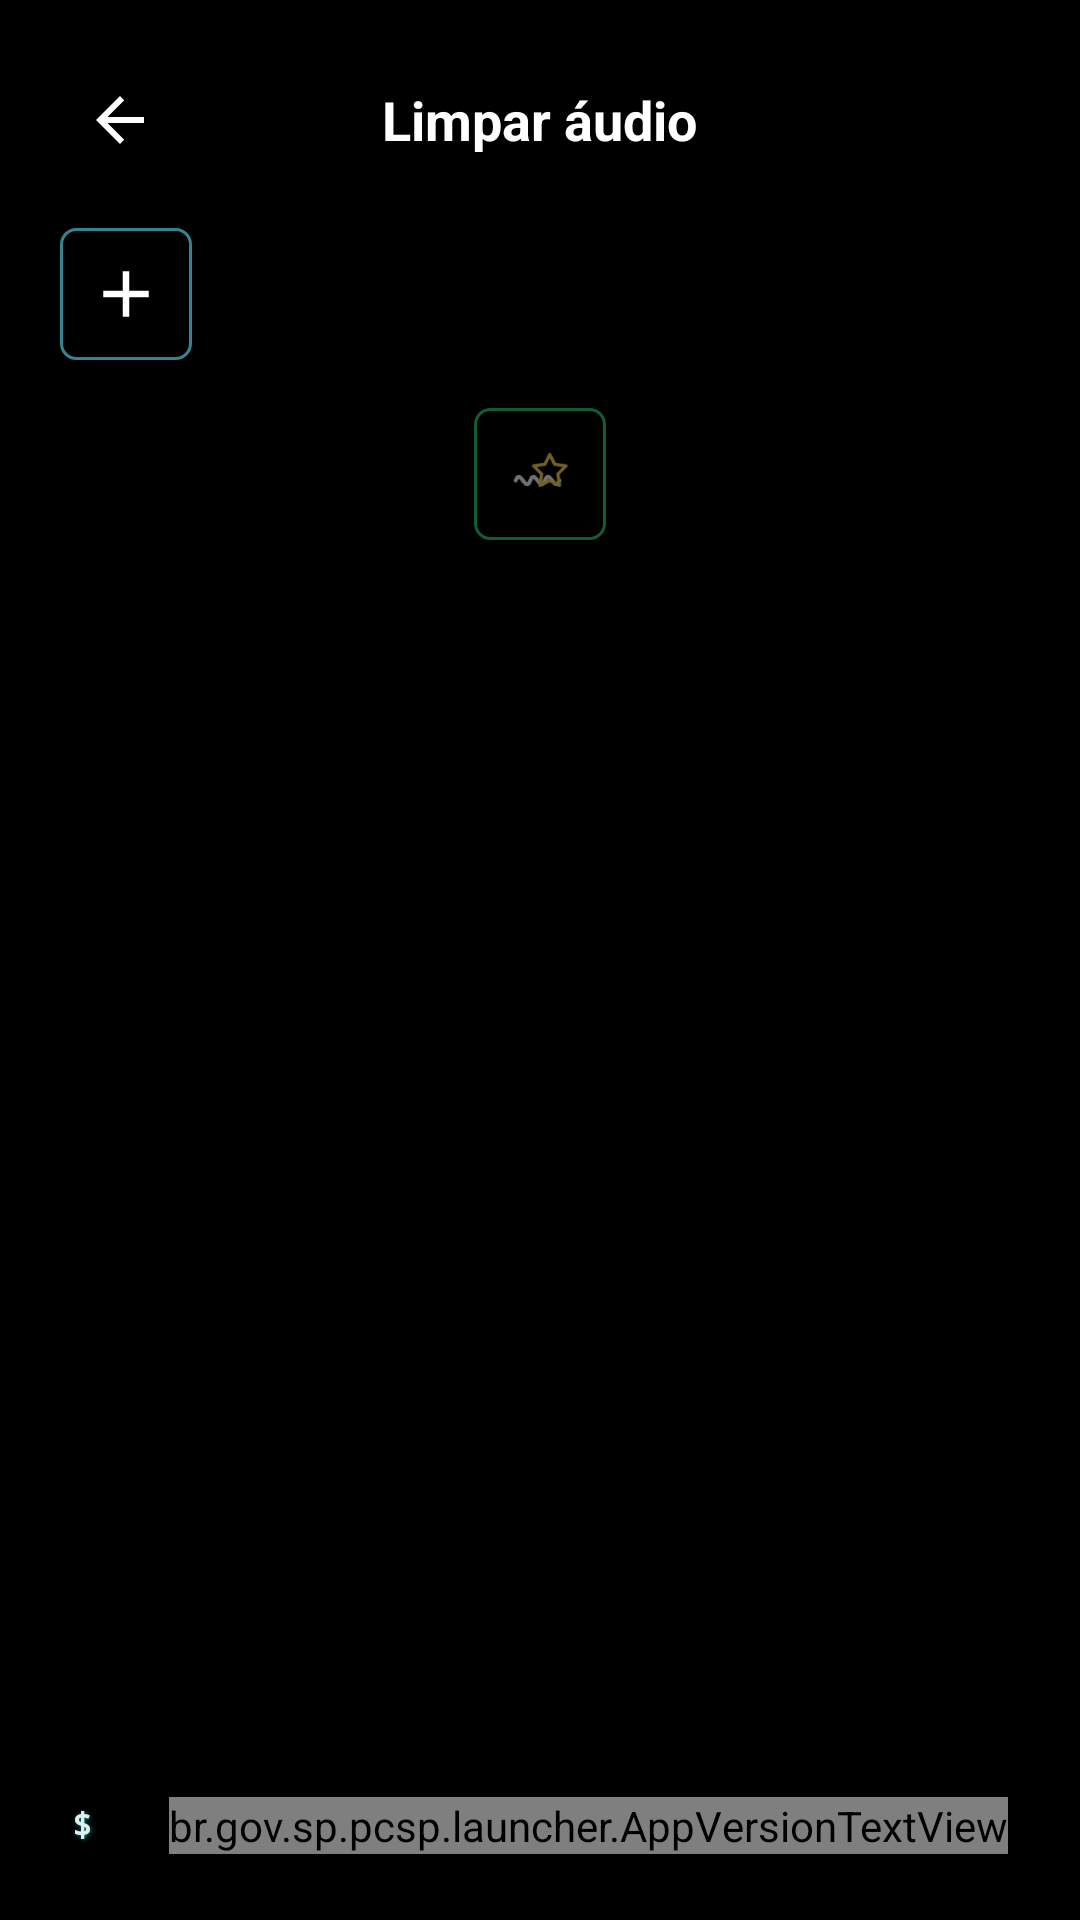

Icon click points for this 1080px x 1920px phone screenshot, format [x,y]:
Limpar áudio: [540,474]
Selecionar áudio: [126,294]
Voltar: [120,120]
